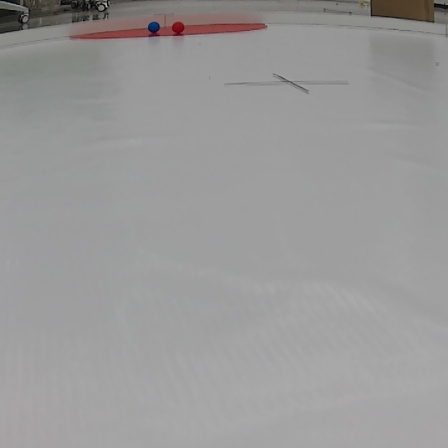blue: (148, 21, 163, 33)
red: (171, 21, 188, 33)
red_base: (67, 22, 273, 34)
